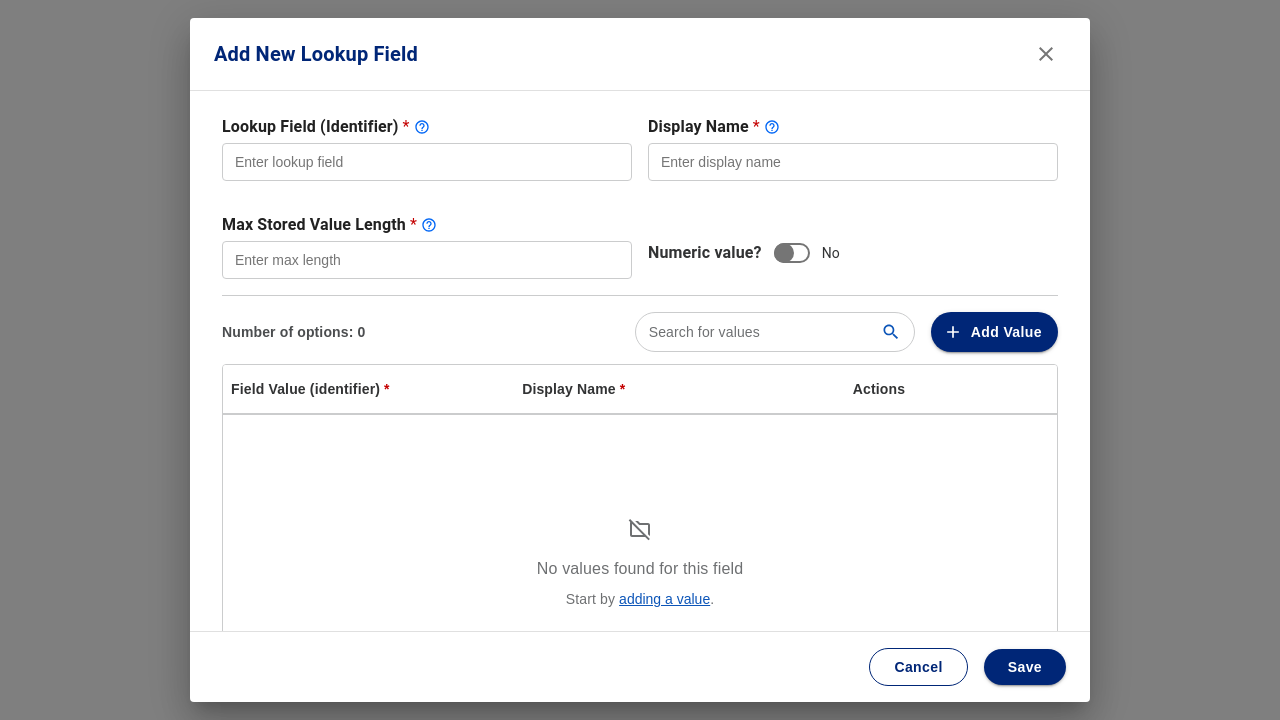
Test: LookupFieldDialog › should handle numeric value switch changes
This screenshot has width=1280, height=720.
Expected: the text "No" is shown, x1=822 y1=244 x2=840 y2=260
# Click the switch
Click the checkbox. click: {"x": 784, "y": 253}
box: x1=774 y1=243 x2=794 y2=263
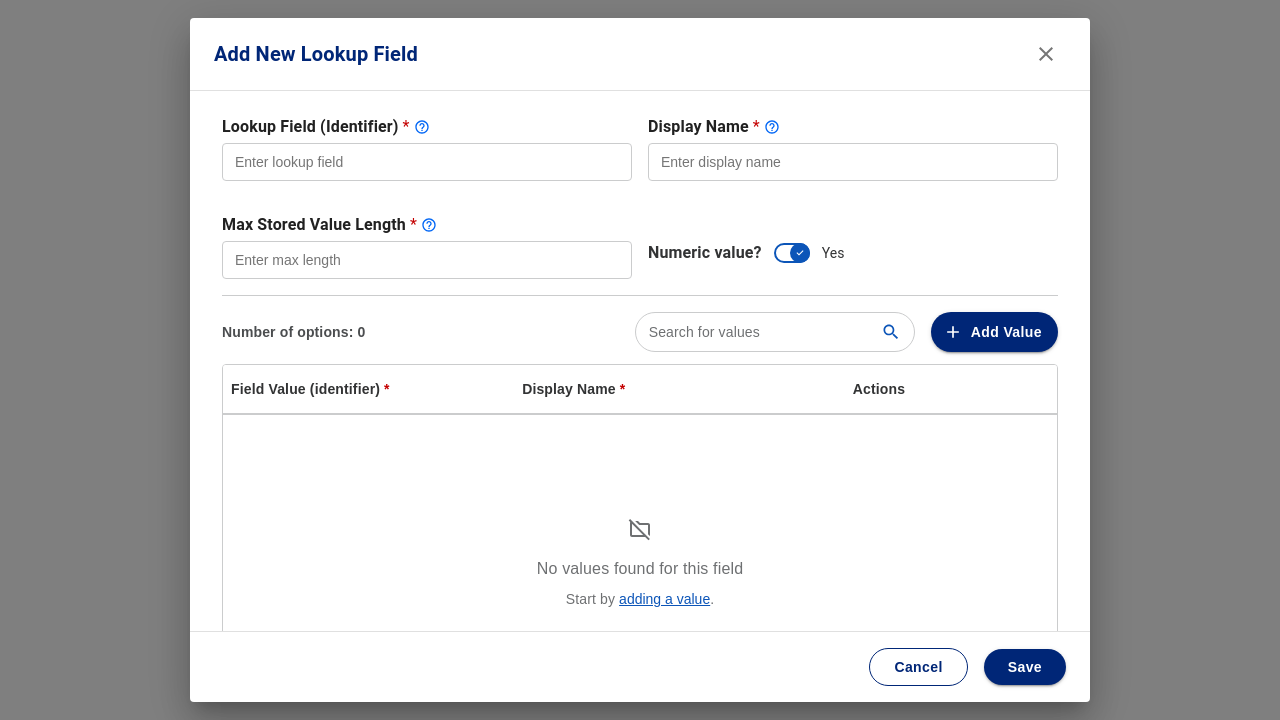
Expected: the text "Yes" is shown, x1=822 y1=244 x2=845 y2=260
